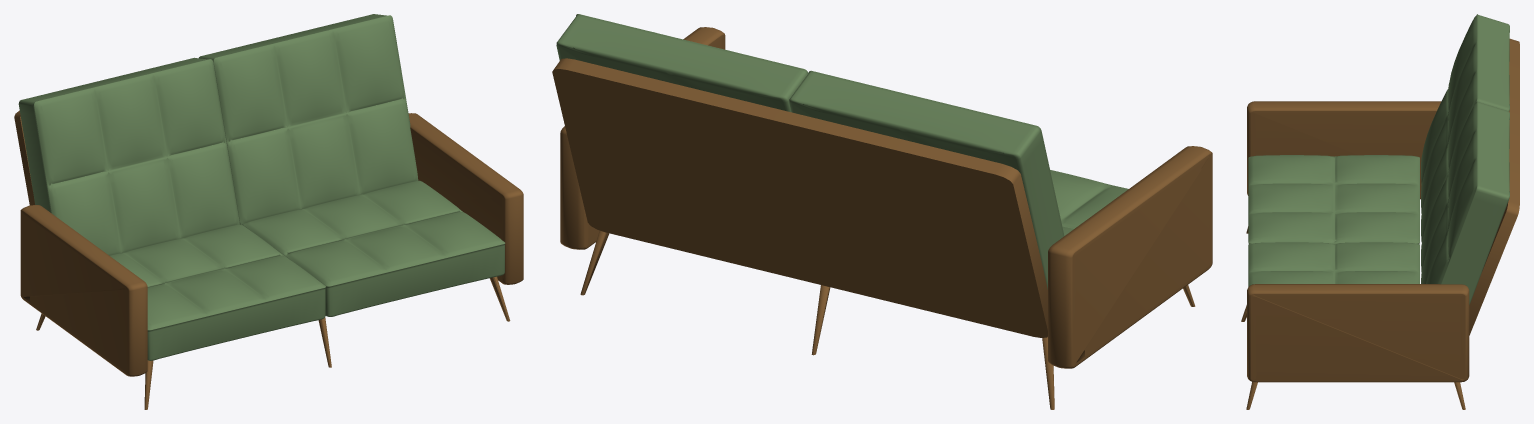
File: SofaVerde.fbx
The picture shows the model from 3 angles, left to right: view 1: azimuth 30°, elevation 25°; view 2: azimuth 150°, elevation 25°; view 3: azimuth 270°, elevation 25°; orthographic projection. The views are drawn at different scales.
Visible parts, largest first — view 1: patas.001; view 2: patas.001; view 3: patas.001.
Boxes of the visible parts, x1,y1,x2,y2 form: patas.001: [14, 14, 523, 409]; patas.001: [552, 14, 1212, 409]; patas.001: [1241, 14, 1519, 409].
Size of the model in its own units: 211 by 113 by 129.
